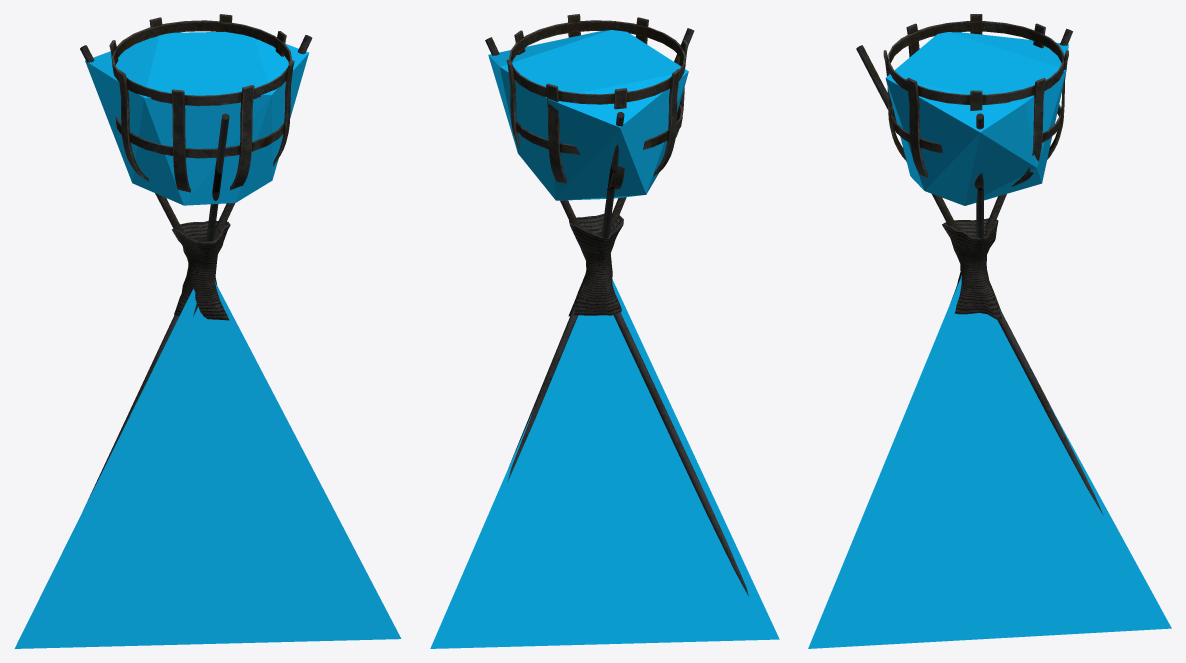
File: JWC_Brazier_Kagaribi_A_01.fbx
3 renders of one model, left to right at view 1: azimuth 30°, elevation 25°; view 2: azimuth 150°, elevation 25°; view 3: azimuth 270°, elevation 25°, orthographic.
Visible parts, largest first — view 1: C_JWC_Brazier_Kagaribi_A_01_001, C_JWC_Brazier_Kagaribi_A_01, JWC_Brazier_Kagaribi_A_01; view 2: C_JWC_Brazier_Kagaribi_A_01_001, C_JWC_Brazier_Kagaribi_A_01, JWC_Brazier_Kagaribi_A_01; view 3: C_JWC_Brazier_Kagaribi_A_01_001, C_JWC_Brazier_Kagaribi_A_01, JWC_Brazier_Kagaribi_A_01.
Part boxes in pixels (x1,y1,x2,y2): C_JWC_Brazier_Kagaribi_A_01_001: [14, 281, 401, 648]; C_JWC_Brazier_Kagaribi_A_01: [85, 31, 308, 205]; JWC_Brazier_Kagaribi_A_01: [80, 14, 312, 509]; C_JWC_Brazier_Kagaribi_A_01_001: [430, 279, 779, 648]; C_JWC_Brazier_Kagaribi_A_01: [488, 30, 688, 200]; JWC_Brazier_Kagaribi_A_01: [485, 14, 748, 596]; C_JWC_Brazier_Kagaribi_A_01_001: [808, 275, 1171, 648]; C_JWC_Brazier_Kagaribi_A_01: [885, 32, 1068, 205]; JWC_Brazier_Kagaribi_A_01: [856, 14, 1103, 515].
Size of the model in its own units: 0.7703 by 1.36 by 0.8228.
